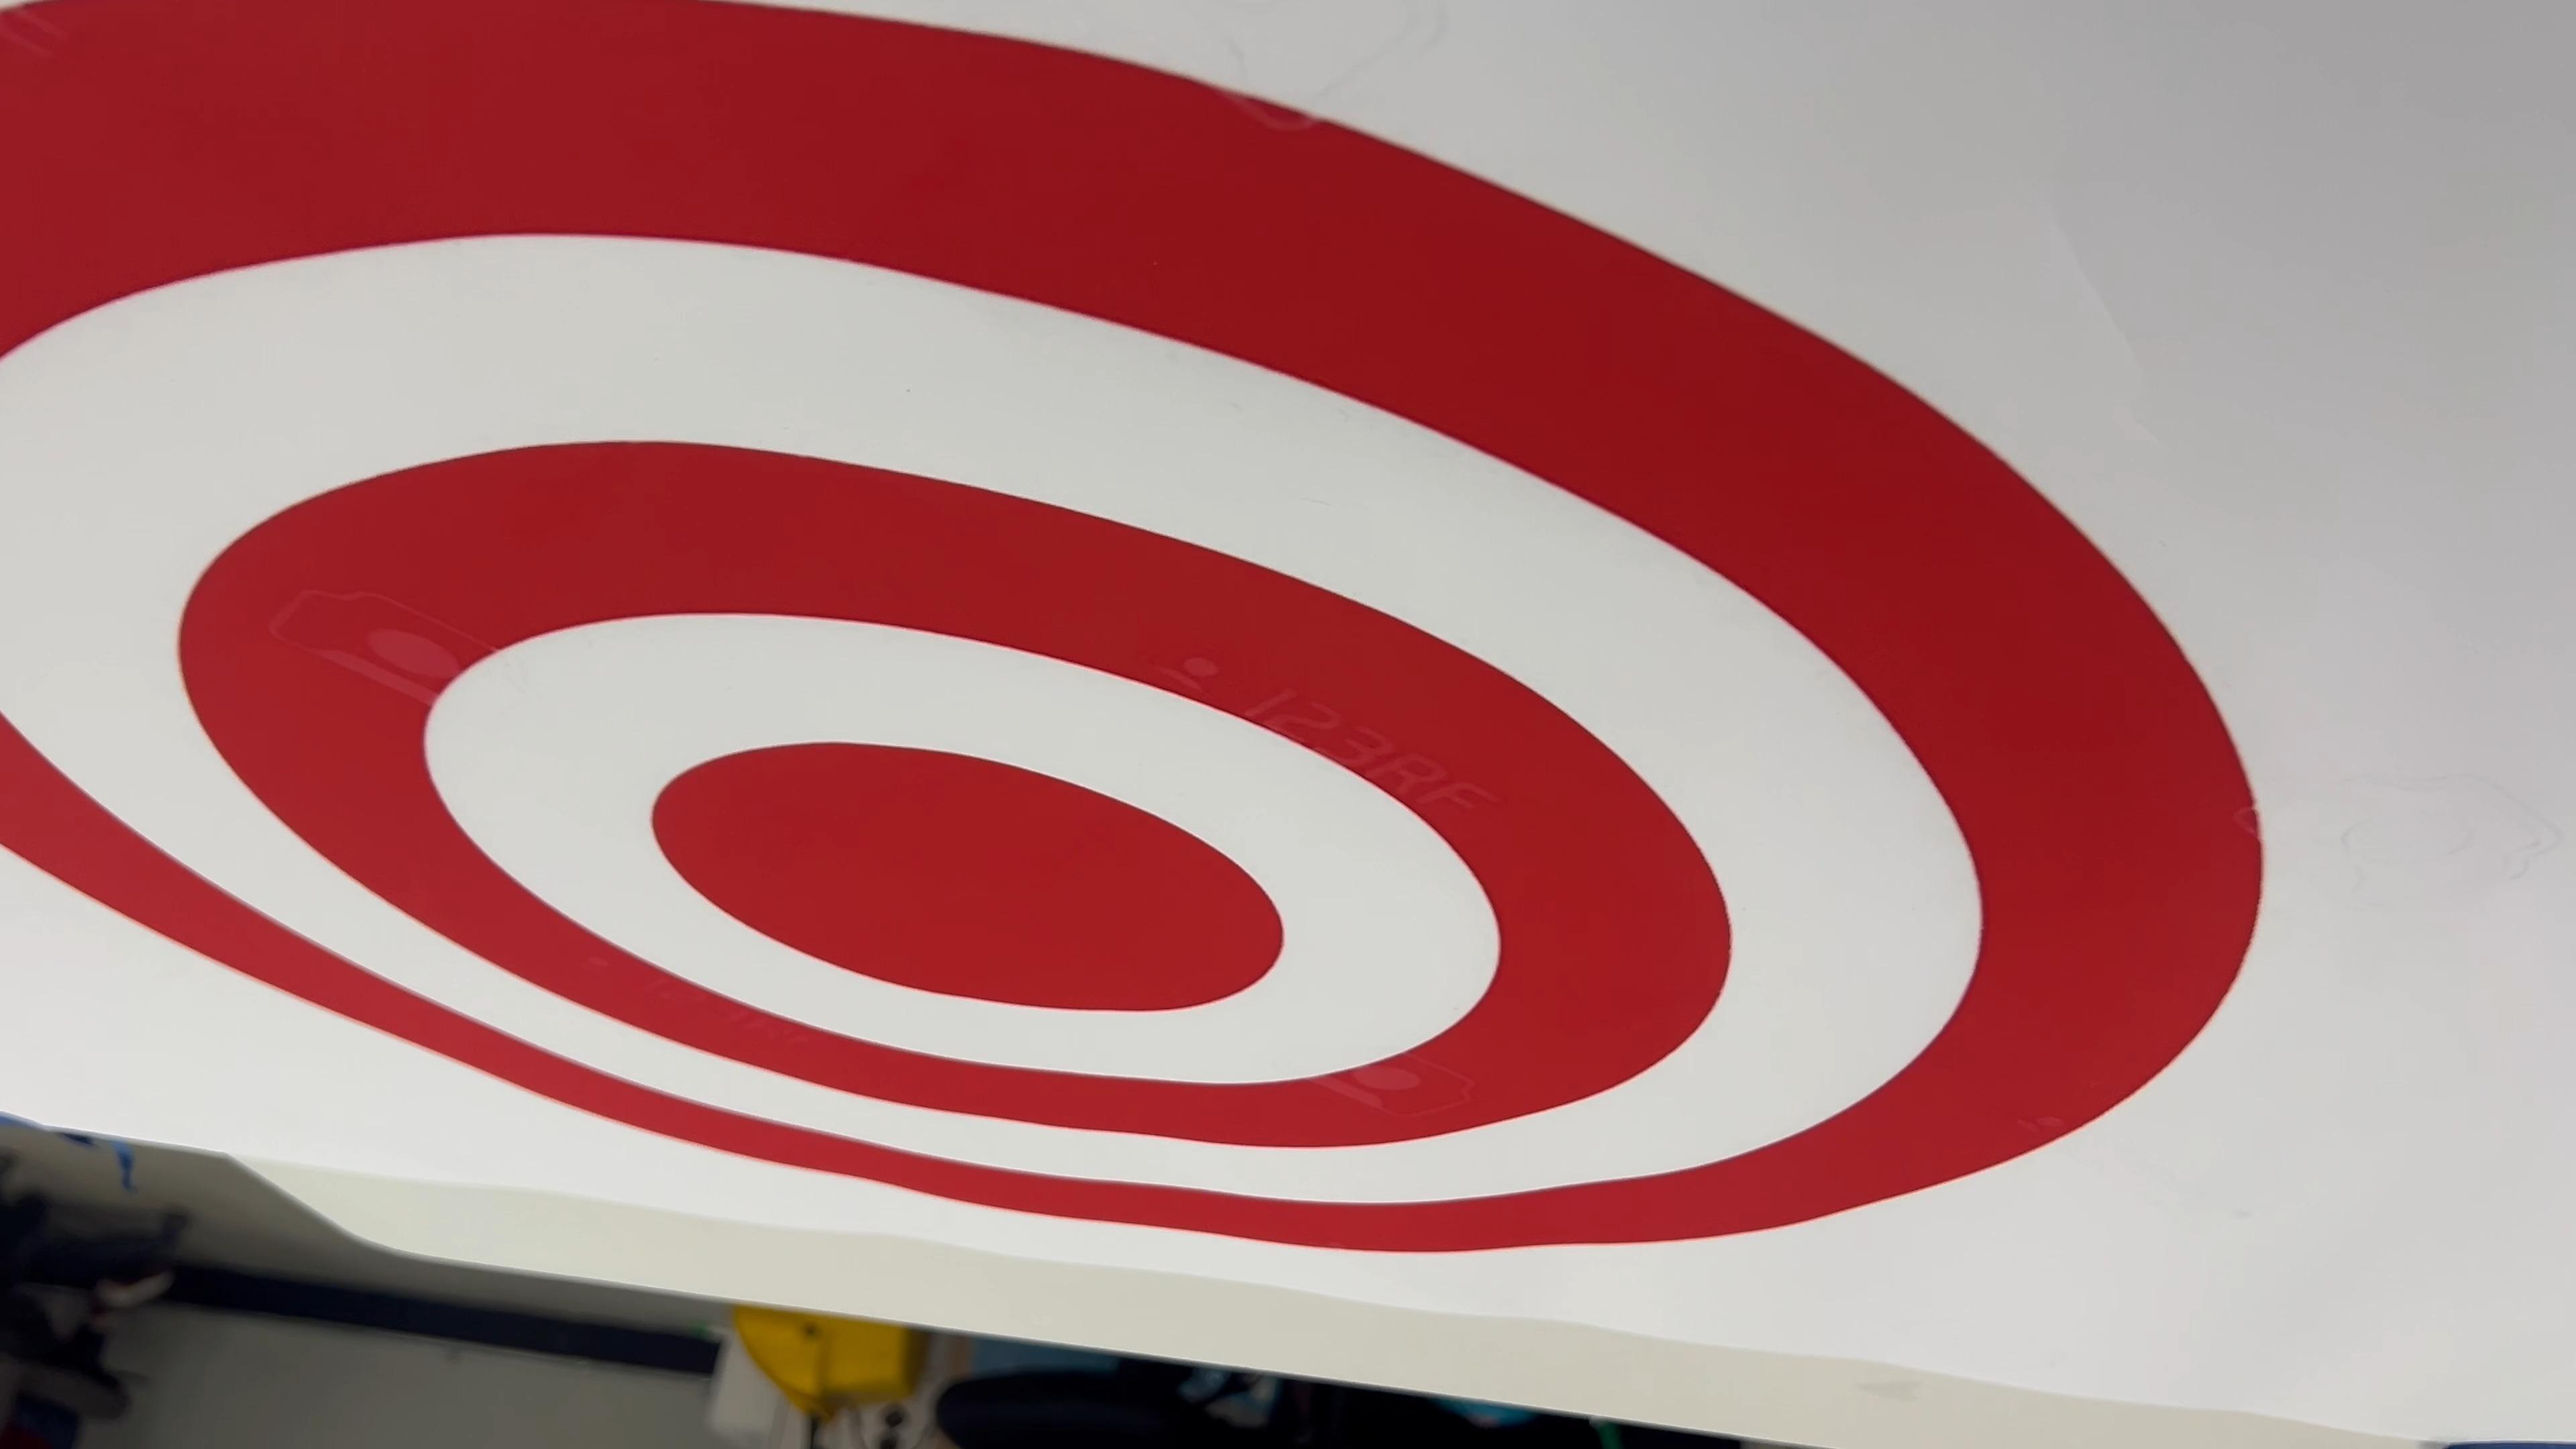target_red: (0, 0, 2328, 1323)
